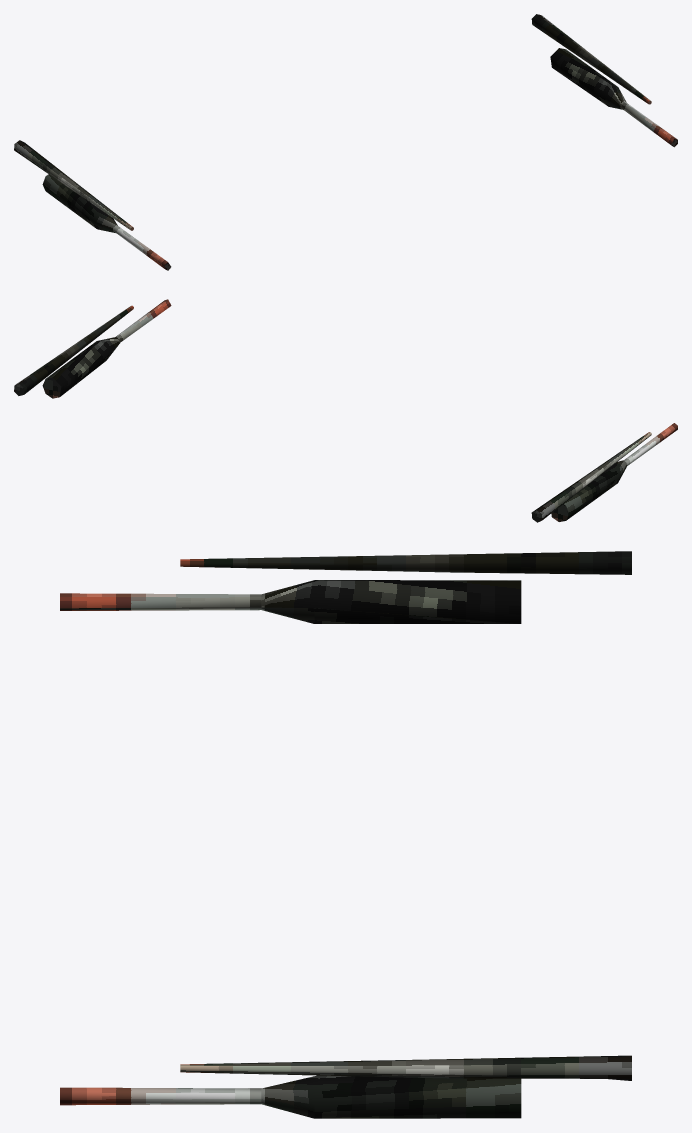
Rendered from awing_weapon_s01_l2.fbx.
The picture shows the model from 3 angles, top to bottom: view 1: azimuth 30°, elevation 25°; view 2: azimuth 150°, elevation 25°; view 3: azimuth 270°, elevation 25°; orthographic projection. The views are drawn at different scales.
Parts seen in each view (by area): view 1: mesh_node; view 2: mesh_node; view 3: mesh_node.
Boxes of the visible parts, x1,y1,x2,y2 form: mesh_node: [14, 14, 677, 270]; mesh_node: [14, 299, 677, 522]; mesh_node: [60, 551, 631, 1118].
Bounding box in the file's own units: 9.05 × 0.5489 × 4.25.
1 material, 1 textured.
